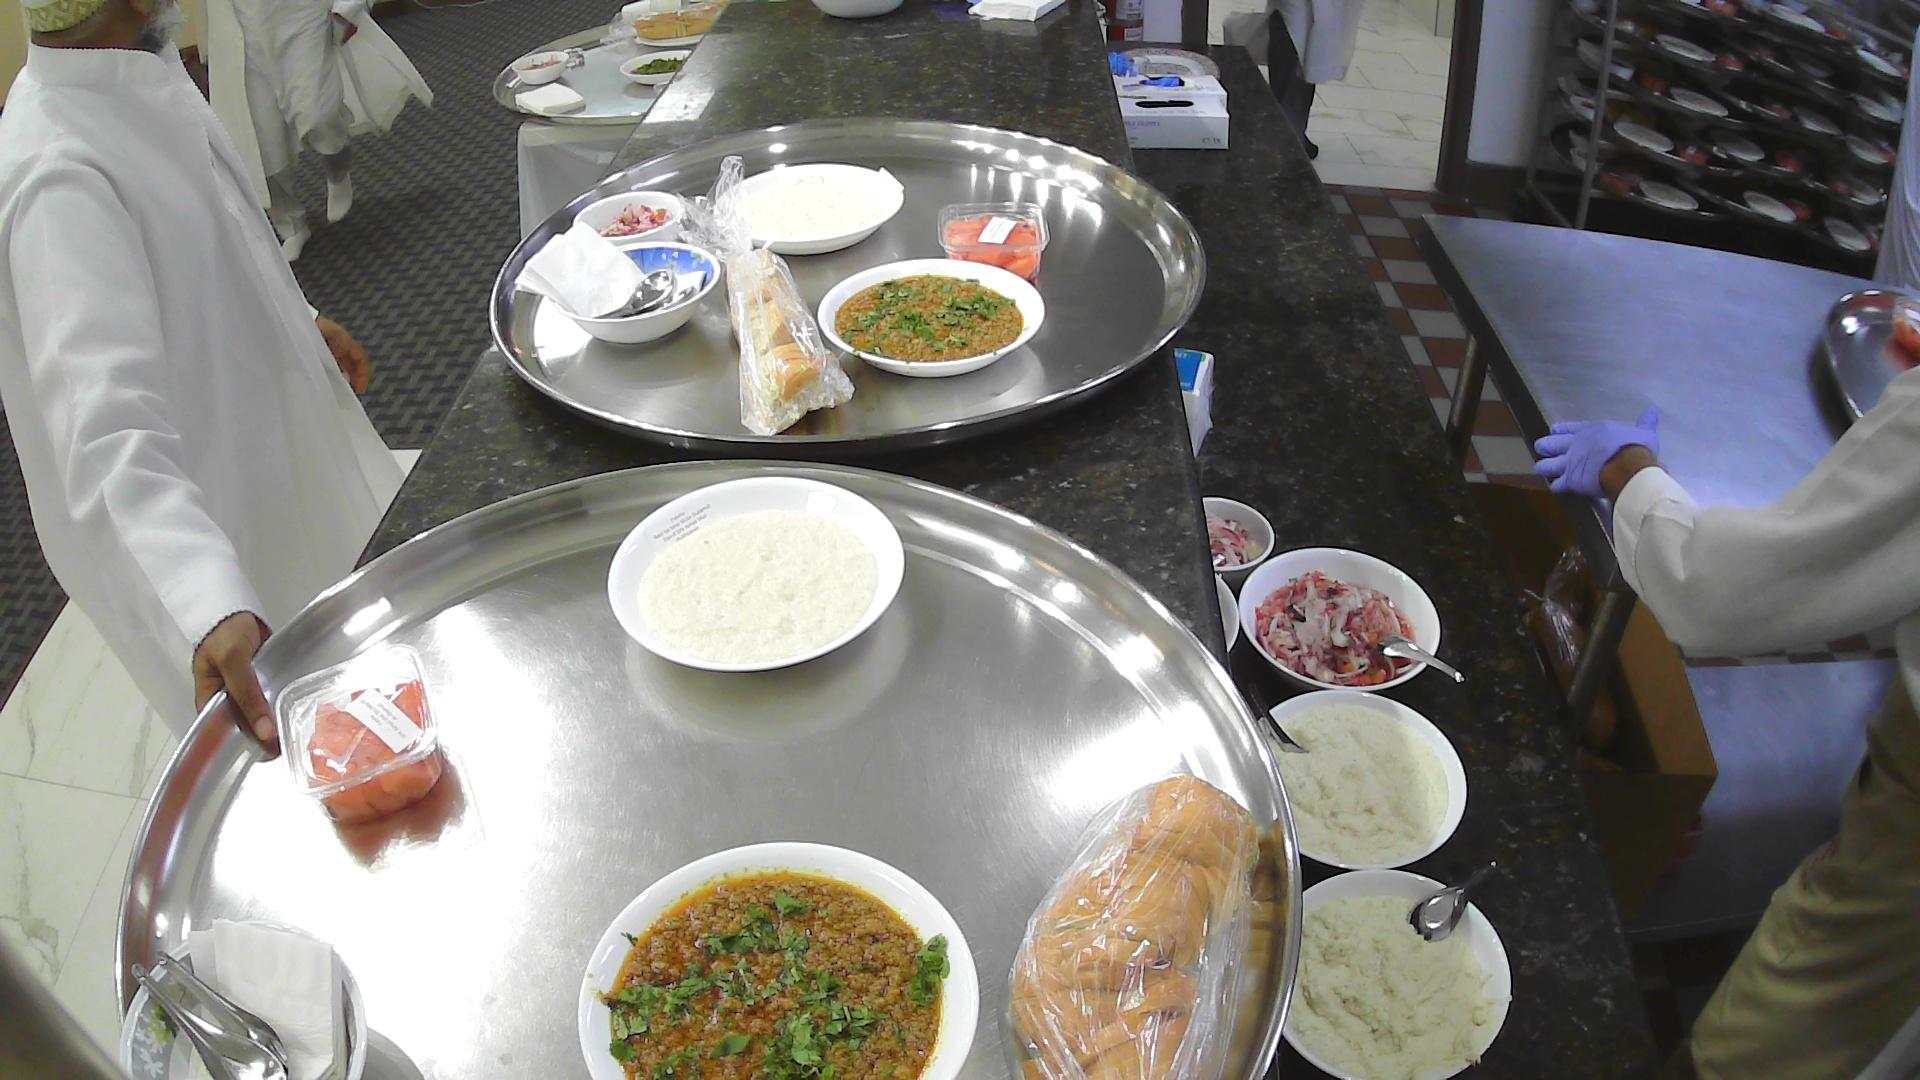thaal: (109, 455, 1305, 1080), (488, 113, 1211, 460), (492, 16, 719, 128), (1818, 286, 1920, 426)
